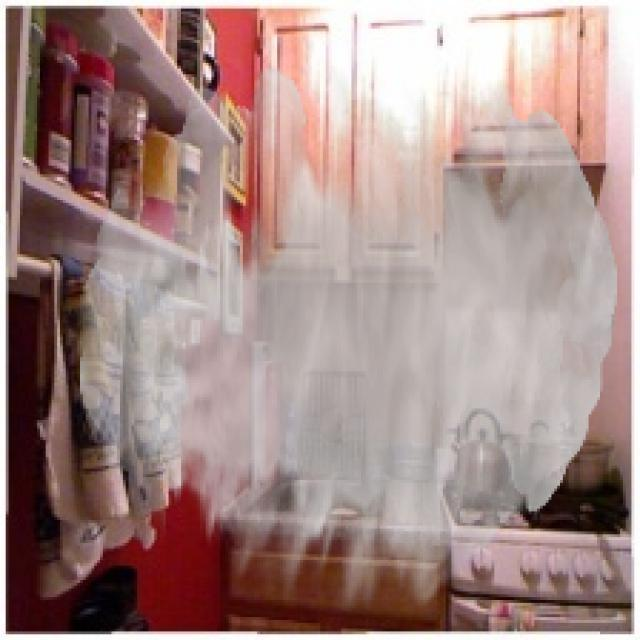Smoke: (77, 66, 617, 612)
